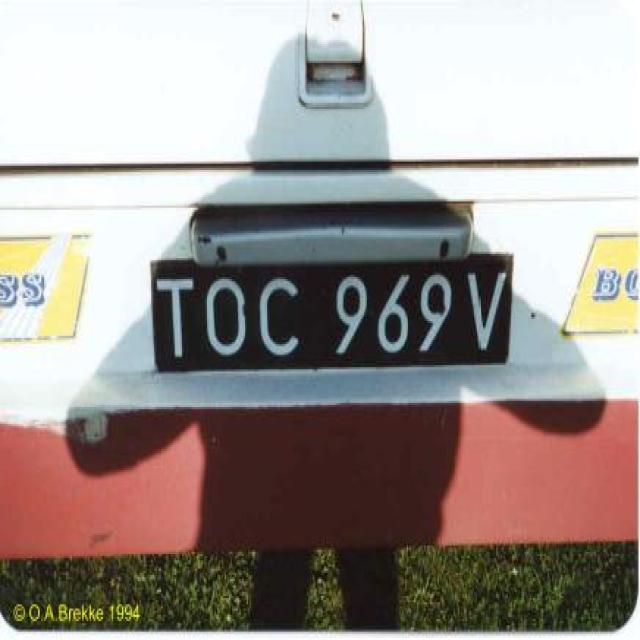pl_license_plate: (150, 258, 508, 361)
